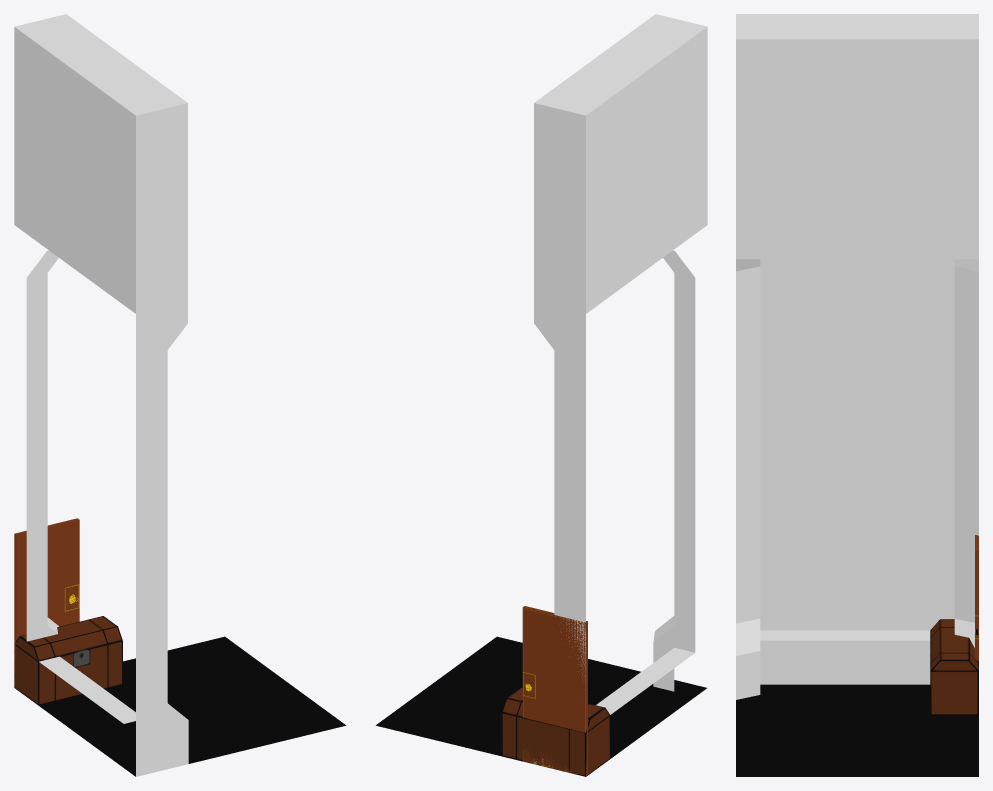
The model's file is items.glb.
The picture shows the model from 3 angles, left to right: view 1: azimuth 30°, elevation 25°; view 2: azimuth 150°, elevation 25°; view 3: azimuth 270°, elevation 25°; orthographic projection.
Parts seen in each view (by area): view 1: Big Wall, Basic Floor, Chest, Door; view 2: Big Wall, Basic Floor, Door, Chest; view 3: Big Wall, Basic Floor, Chest, Door.
Boxes of the visible parts, bbox=[...] form: Big Wall: bbox=[14, 14, 188, 776]; Basic Floor: bbox=[39, 636, 345, 776]; Chest: bbox=[14, 616, 122, 705]; Door: bbox=[14, 518, 79, 685]; Big Wall: bbox=[533, 14, 707, 765]; Basic Floor: bbox=[376, 636, 706, 758]; Door: bbox=[522, 606, 587, 776]; Chest: bbox=[501, 687, 610, 776]; Big Wall: bbox=[736, 14, 978, 699]; Basic Floor: bbox=[736, 684, 978, 776]; Chest: bbox=[930, 619, 978, 715]; Door: bbox=[975, 535, 978, 660].
Bounding box in the file's own units: 10 × 30 × 10.
Materials: 4 (3 with a texture image).
